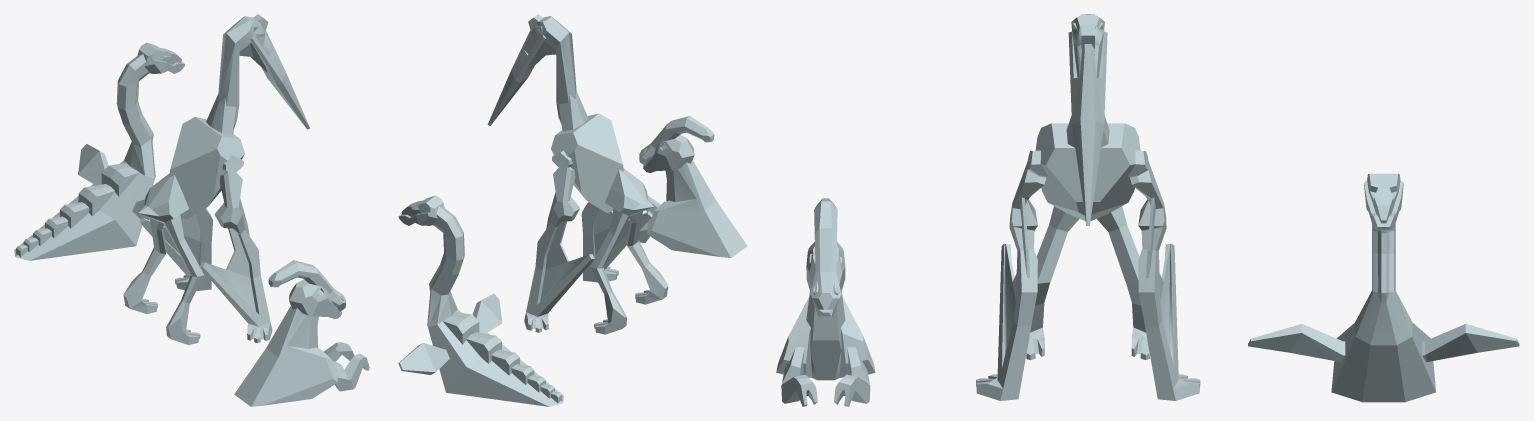
The model's file is sculpture_07.glb.
3 renders of one model, left to right at view 1: azimuth 30°, elevation 25°; view 2: azimuth 150°, elevation 25°; view 3: azimuth 270°, elevation 25°, orthographic. The views are drawn at different scales.
Parts seen in each view (by area): view 1: SCL_08; view 2: SCL_08; view 3: SCL_08.
Part boxes in pixels (bbox=[...]): SCL_08: bbox=[14, 14, 369, 406]; SCL_08: bbox=[398, 14, 747, 406]; SCL_08: bbox=[776, 14, 1519, 406].
Bounding box in the file's own units: 0.5597 × 0.8282 × 1.42.
